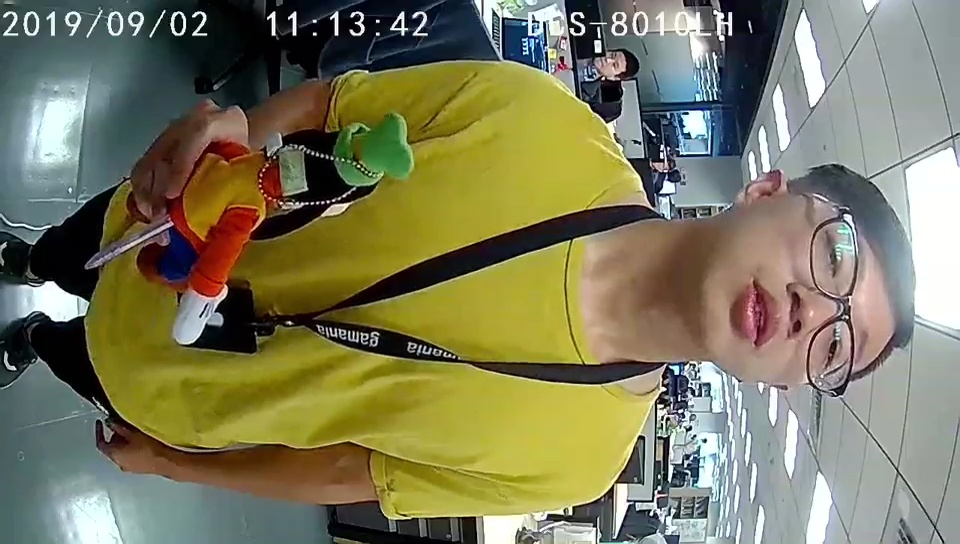goofy: (172, 114, 414, 354)
